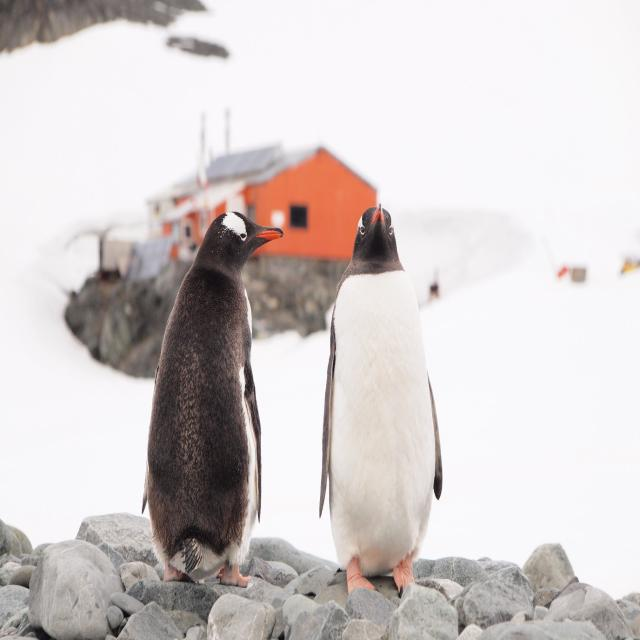Penguins: (145, 204, 294, 596), (314, 198, 448, 608)
